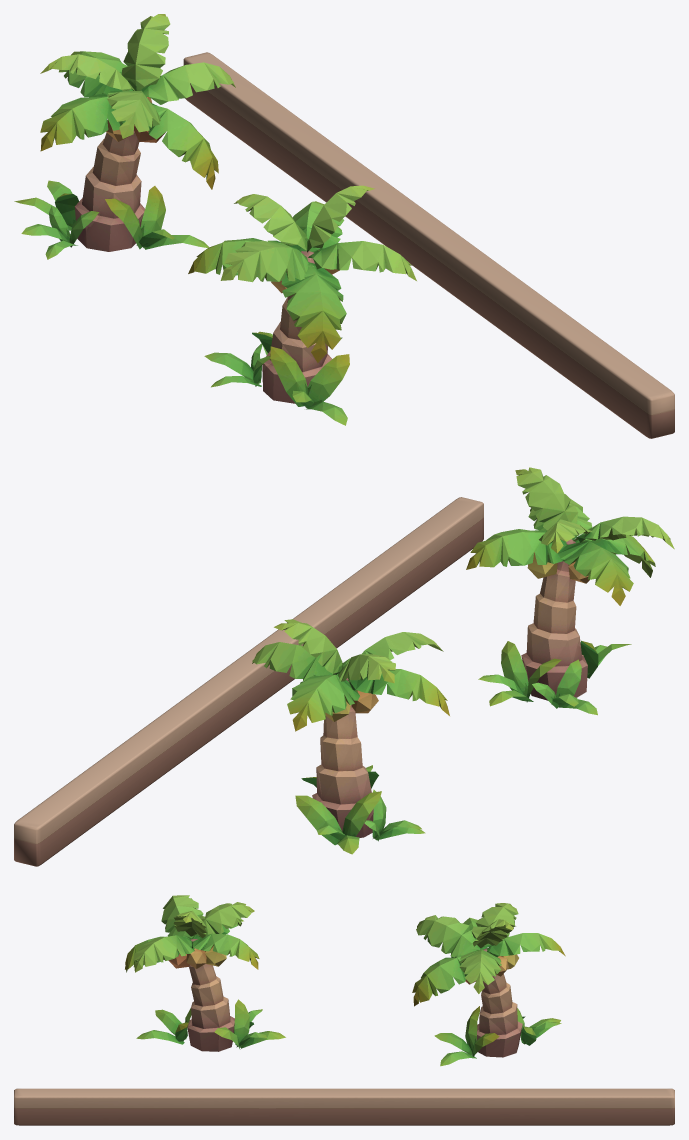
File: Props.fbx
The picture shows the model from 3 angles, top to bottom: view 1: azimuth 30°, elevation 25°; view 2: azimuth 150°, elevation 25°; view 3: azimuth 270°, elevation 25°; orthographic projection. The views are drawn at different scales.
Visible parts, largest first — view 1: Box20-3_1, yezishu02 (1), yezishu02; view 2: Box20-3_1, yezishu02, yezishu02 (1); view 3: Box20-3_1, yezishu02 (1), yezishu02.
Part boxes in pixels (x1,y1,x2,y2): Box20-3_1: [183, 52, 674, 438]; yezishu02 (1): [14, 14, 235, 259]; yezishu02: [188, 185, 416, 425]; Box20-3_1: [14, 497, 483, 866]; yezishu02: [466, 467, 674, 715]; yezishu02 (1): [252, 619, 449, 854]; Box20-3_1: [14, 1088, 674, 1125]; yezishu02 (1): [412, 903, 565, 1066]; yezishu02: [125, 895, 285, 1051].
Size of the model in its own units: 13.01 by 7.58 by 31.
2 materials, 2 textured.
